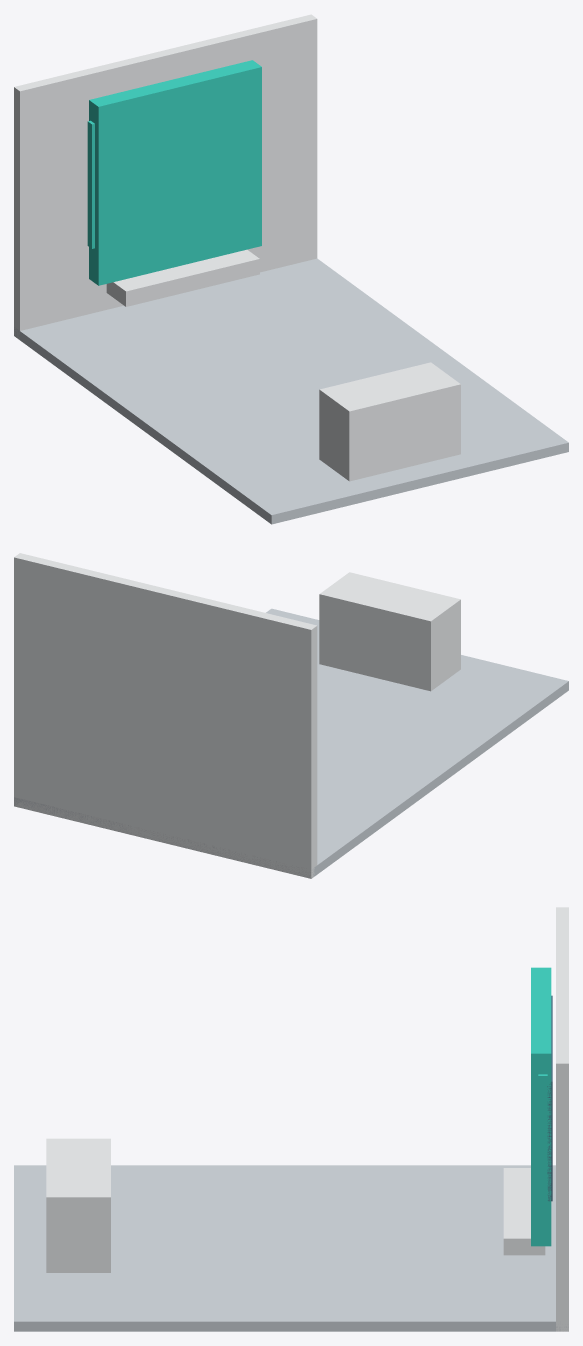
3 renders of one model, top to bottom at view 1: azimuth 30°, elevation 25°; view 2: azimuth 150°, elevation 25°; view 3: azimuth 270°, elevation 25°, orthographic. The views are drawn at different scales.
Parts seen in each view (by area): view 1: Exhibition Booth Concept; view 2: Exhibition Booth Concept; view 3: Exhibition Booth Concept.
Boxes of the visible parts, bbox=[...] form: Exhibition Booth Concept: bbox=[14, 14, 568, 524]; Exhibition Booth Concept: bbox=[14, 553, 568, 878]; Exhibition Booth Concept: bbox=[14, 907, 568, 1331].
Bounding box in the file's own units: 4 × 3.2 × 6.
